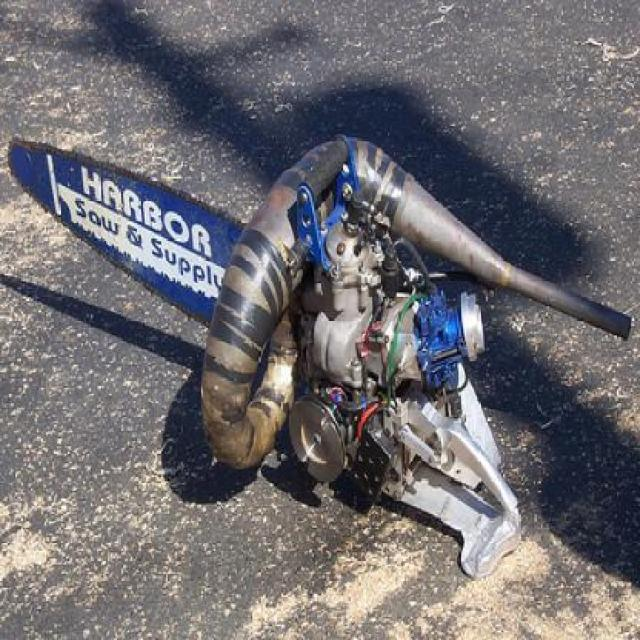Chainsaw: (8, 126, 634, 586)
